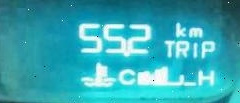-: (120, 50, 131, 56)
2: (126, 21, 155, 52)
5: (73, 20, 101, 52), (100, 20, 127, 52)
X: (116, 68, 135, 85), (201, 39, 217, 58), (196, 68, 213, 85), (175, 39, 189, 57), (174, 20, 187, 37), (162, 39, 172, 57), (189, 25, 203, 37), (192, 40, 198, 57)
